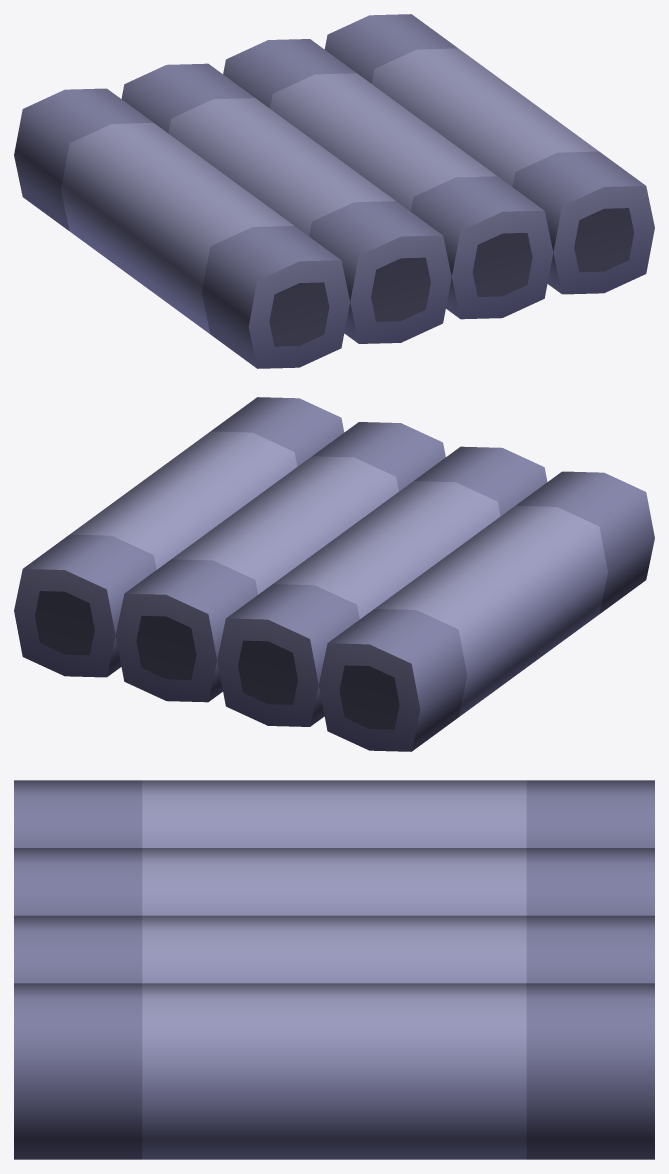
File: kenney-factory-conveyor-bars-stripe.glb
3 renders of one model, top to bottom at view 1: azimuth 30°, elevation 25°; view 2: azimuth 150°, elevation 25°; view 3: azimuth 270°, elevation 25°, orthographic. The views are drawn at different scales.
Parts seen in each view (by area): view 1: conveyor-bars-stripe; view 2: conveyor-bars-stripe; view 3: conveyor-bars-stripe.
Part boxes in pixels (x1,y1,x2,y2): conveyor-bars-stripe: (14,14,654,368); conveyor-bars-stripe: (14,397,654,751); conveyor-bars-stripe: (14,780,654,1159).
Bounding box in the file's own units: 1.5 × 0.375 × 1.5.
1 material, 1 textured.
